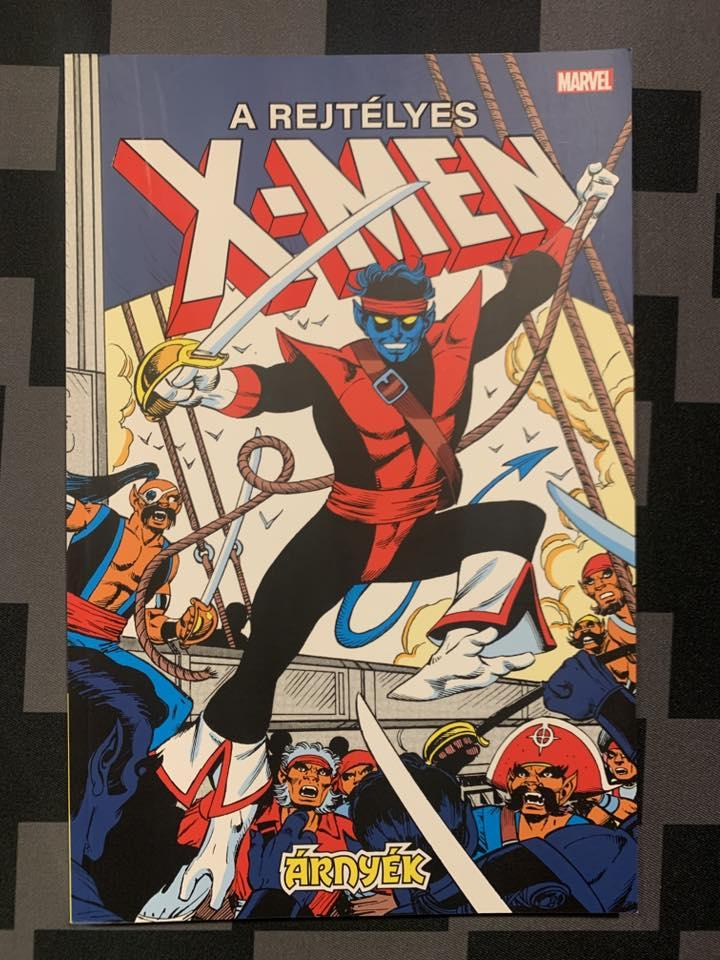comic: (62, 50, 638, 922)
